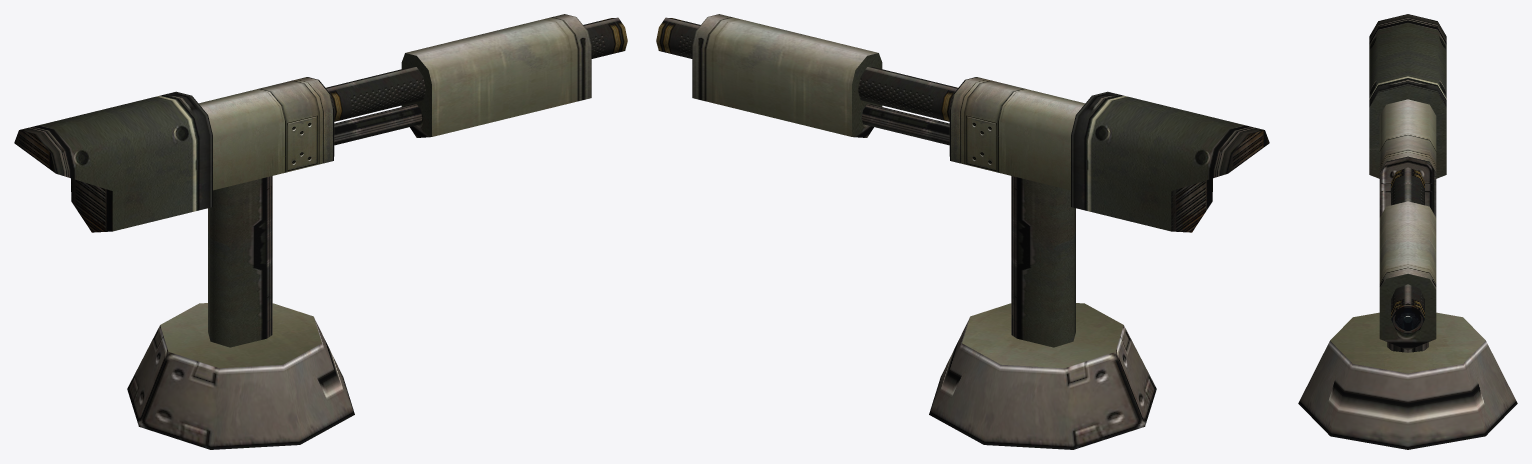
Rendered from blaster.obj.
3 renders of one model, left to right at view 1: azimuth 30°, elevation 25°; view 2: azimuth 150°, elevation 25°; view 3: azimuth 270°, elevation 25°, orthographic. The views are drawn at different scales.
Parts seen in each view (by area): view 1: weapon:group1 weapon:pCylinder5, weapon:group1 weapon:pCylinder6, weapon:pCylinder1 weapon:group1, weapon:group1 weapon:pCylinder3, weapon:group1 weapon:pCylinder4, weapon:group1 weapon:pCylinder2, weapon:group1 weapon:pCylinder7; view 2: weapon:group1 weapon:pCylinder5, weapon:group1 weapon:pCylinder6, weapon:pCylinder1 weapon:group1, weapon:group1 weapon:pCylinder3, weapon:group1 weapon:pCylinder4, weapon:group1 weapon:pCylinder2, weapon:group1 weapon:pCylinder7; view 3: weapon:group1 weapon:pCylinder5, weapon:group1 weapon:pCylinder6, weapon:pCylinder1 weapon:group1, weapon:group1 weapon:pCylinder3, weapon:group1 weapon:pCylinder2, weapon:group1 weapon:pCylinder4.
Part boxes in pixels (x1,y1,x2,y2): weapon:group1 weapon:pCylinder5: [127, 303, 354, 449]; weapon:group1 weapon:pCylinder6: [14, 91, 212, 232]; weapon:pCylinder1 weapon:group1: [401, 14, 591, 137]; weapon:group1 weapon:pCylinder3: [198, 77, 334, 190]; weapon:group1 weapon:pCylinder4: [208, 176, 272, 347]; weapon:group1 weapon:pCylinder2: [326, 17, 627, 121]; weapon:group1 weapon:pCylinder7: [334, 104, 422, 145]; weapon:group1 weapon:pCylinder5: [929, 303, 1156, 449]; weapon:group1 weapon:pCylinder6: [1071, 91, 1269, 232]; weapon:pCylinder1 weapon:group1: [692, 14, 882, 137]; weapon:group1 weapon:pCylinder3: [949, 77, 1085, 190]; weapon:group1 weapon:pCylinder4: [1011, 176, 1075, 347]; weapon:group1 weapon:pCylinder2: [656, 17, 957, 121]; weapon:group1 weapon:pCylinder7: [861, 104, 949, 145]; weapon:group1 weapon:pCylinder5: [1298, 312, 1517, 449]; weapon:group1 weapon:pCylinder6: [1369, 14, 1446, 178]; weapon:pCylinder1 weapon:group1: [1379, 201, 1436, 350]; weapon:group1 weapon:pCylinder3: [1379, 99, 1436, 217]; weapon:group1 weapon:pCylinder2: [1391, 167, 1424, 334]; weapon:group1 weapon:pCylinder4: [1387, 342, 1428, 352].
Bounding box in the file's own units: 11.1 × 5.78 × 3.88.
2 materials, 2 textured.
